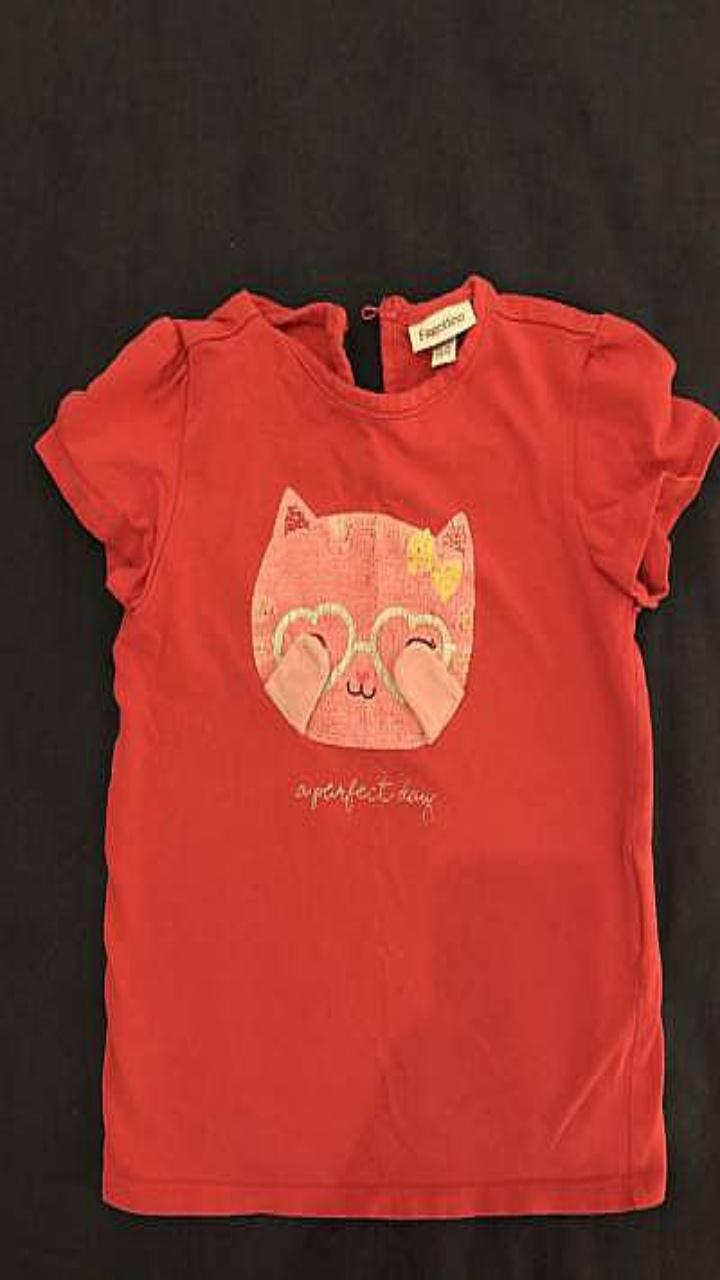T-Shirt: (36, 274, 719, 1217)
